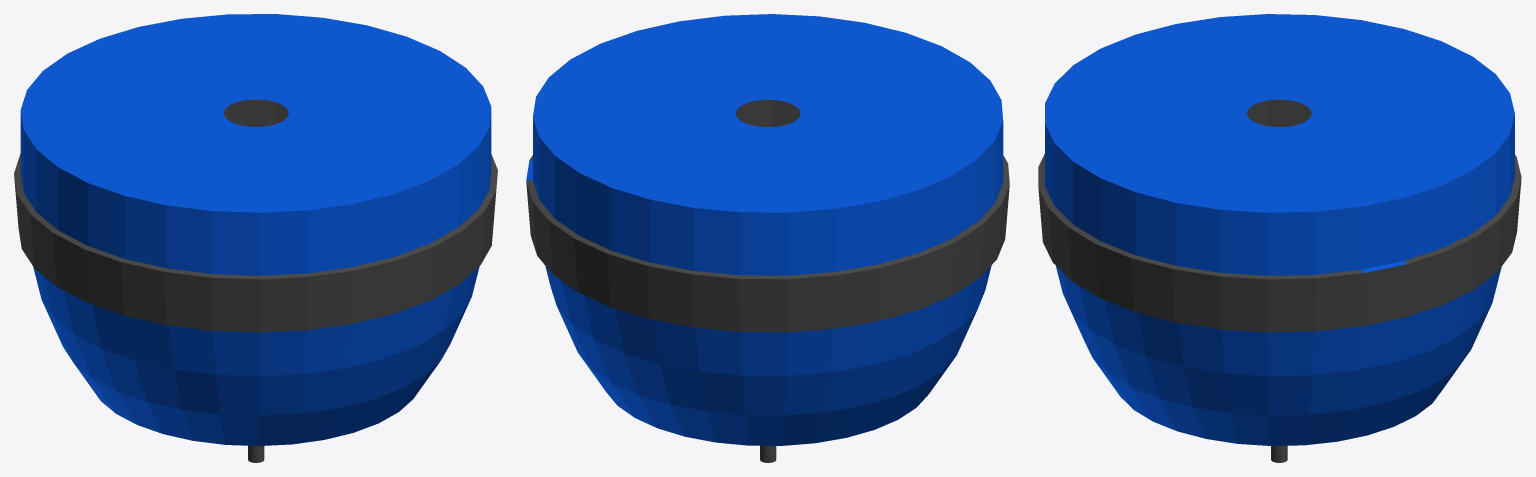
3 renders of one model, left to right at view 1: azimuth 30°, elevation 25°; view 2: azimuth 150°, elevation 25°; view 3: azimuth 270°, elevation 25°, orthographic.
Parts seen in each view (by area): view 1: Base; view 2: Base; view 3: Base.
Boxes of the visible parts, <box> form: Base: <box>14,14,497,462</box>; Base: <box>526,14,1009,462</box>; Base: <box>1038,14,1521,462</box>.
Size of the model in its own units: 155 by 137 by 156.
